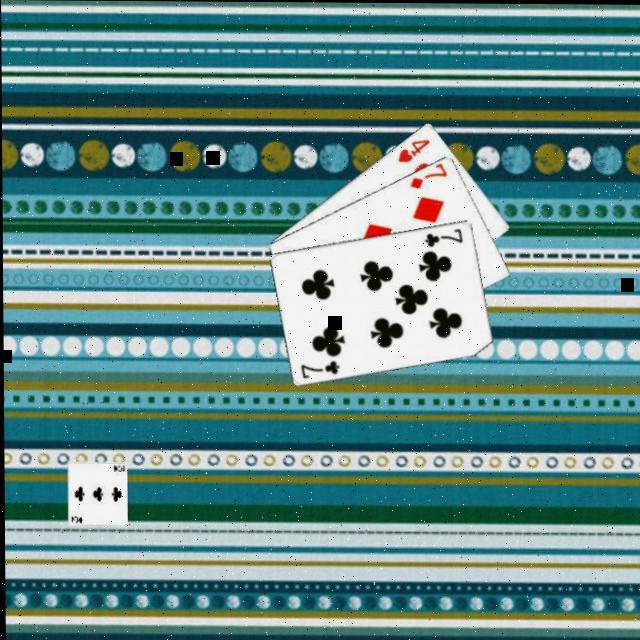4H: (392, 136, 430, 166)
7C: (419, 226, 464, 250), (295, 358, 340, 382)
7D: (404, 162, 448, 192)
